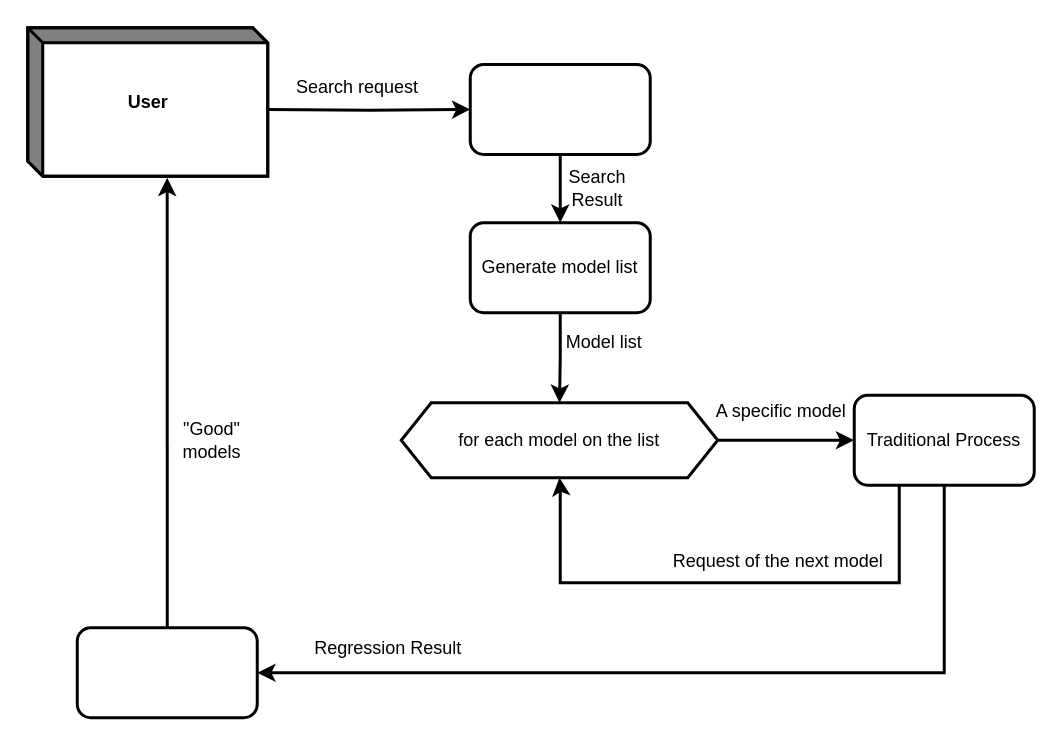
This 1061x744 diagram has some shape labels left out. Each missing label, with the box of its shape:
Filter Model: (75, 626, 258, 718)
Parse search request: (468, 62, 651, 155)
